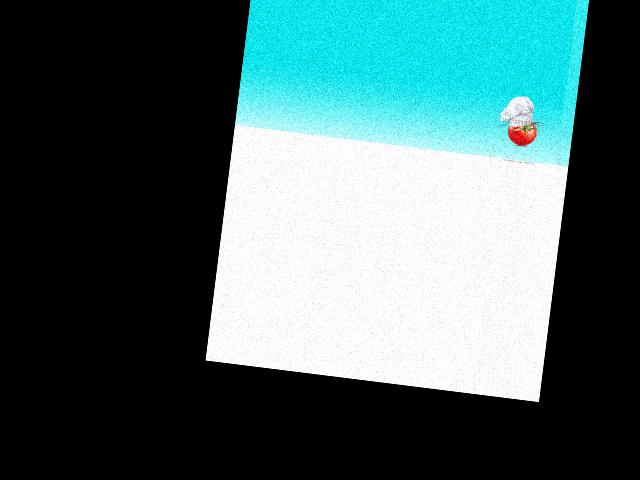tomato: (506, 119, 537, 146)
